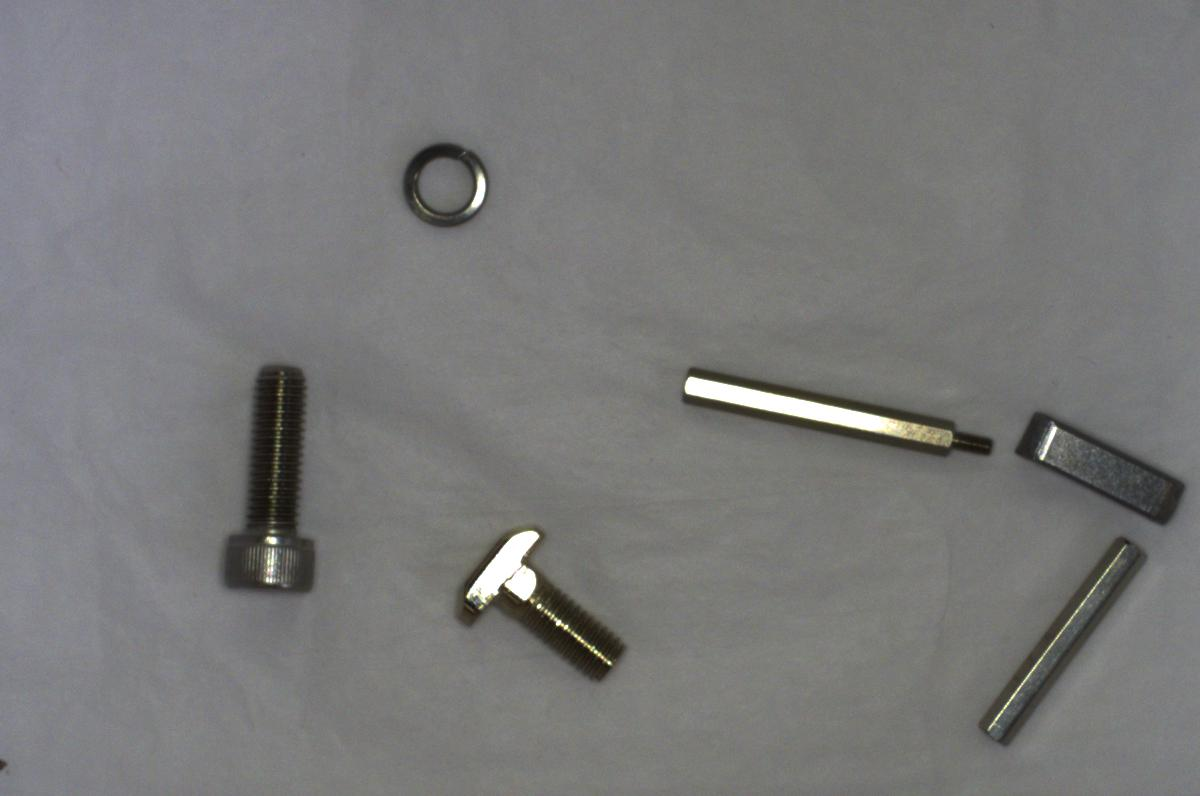Double hexagonal column: (975, 532, 1152, 752)
Hexagon screw: (208, 359, 324, 598)
Hexagonal steel column: (666, 362, 997, 469)
Keybar: (1020, 401, 1195, 533)
Spring washer: (398, 134, 498, 227)
T-shaped screw: (452, 522, 632, 688)
